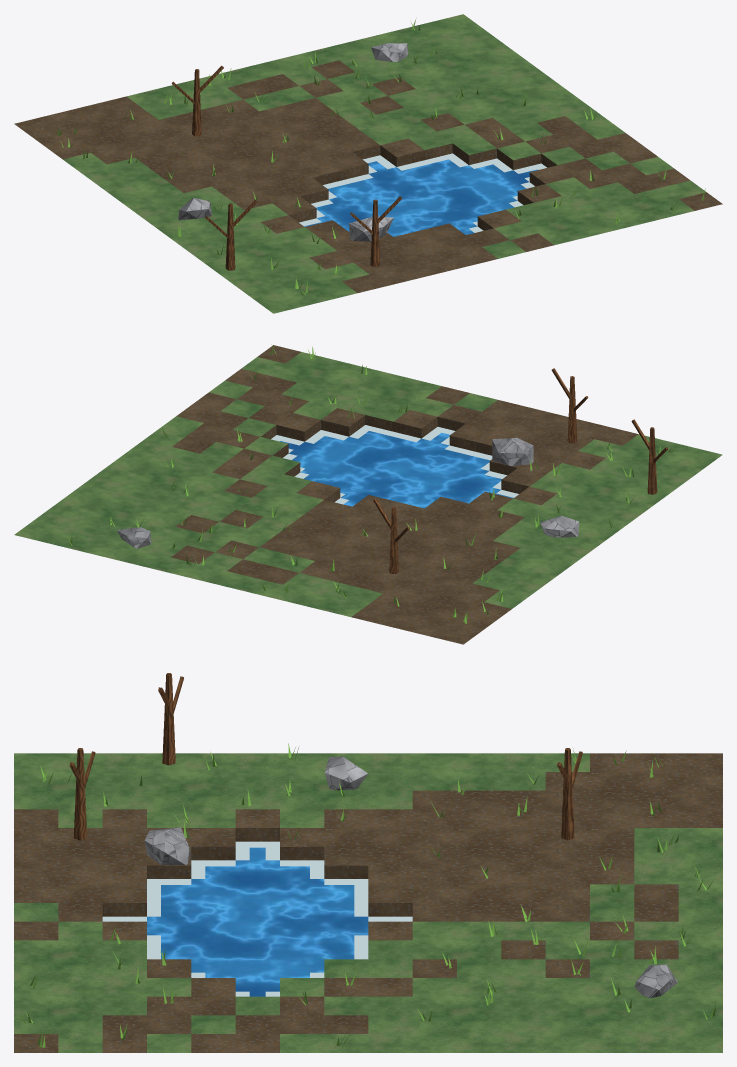
Rendered from chunk_0_15.glb.
3 views of the same model, one above another, from view 1: azimuth 30°, elevation 25°; view 2: azimuth 150°, elevation 25°; view 3: azimuth 270°, elevation 25° (orthographic). The views are drawn at different scales.
Parts seen in each view (by area): view 1: chunk_0_15; view 2: chunk_0_15; view 3: chunk_0_15.
Boxes of the visible parts, x1,y1,x2,y2 form: chunk_0_15: [14, 14, 722, 313]; chunk_0_15: [14, 344, 722, 644]; chunk_0_15: [14, 673, 722, 1052].
Size of the model in its own units: 16.24 by 2.69 by 16.
Materials: 7 (5 with a texture image).
